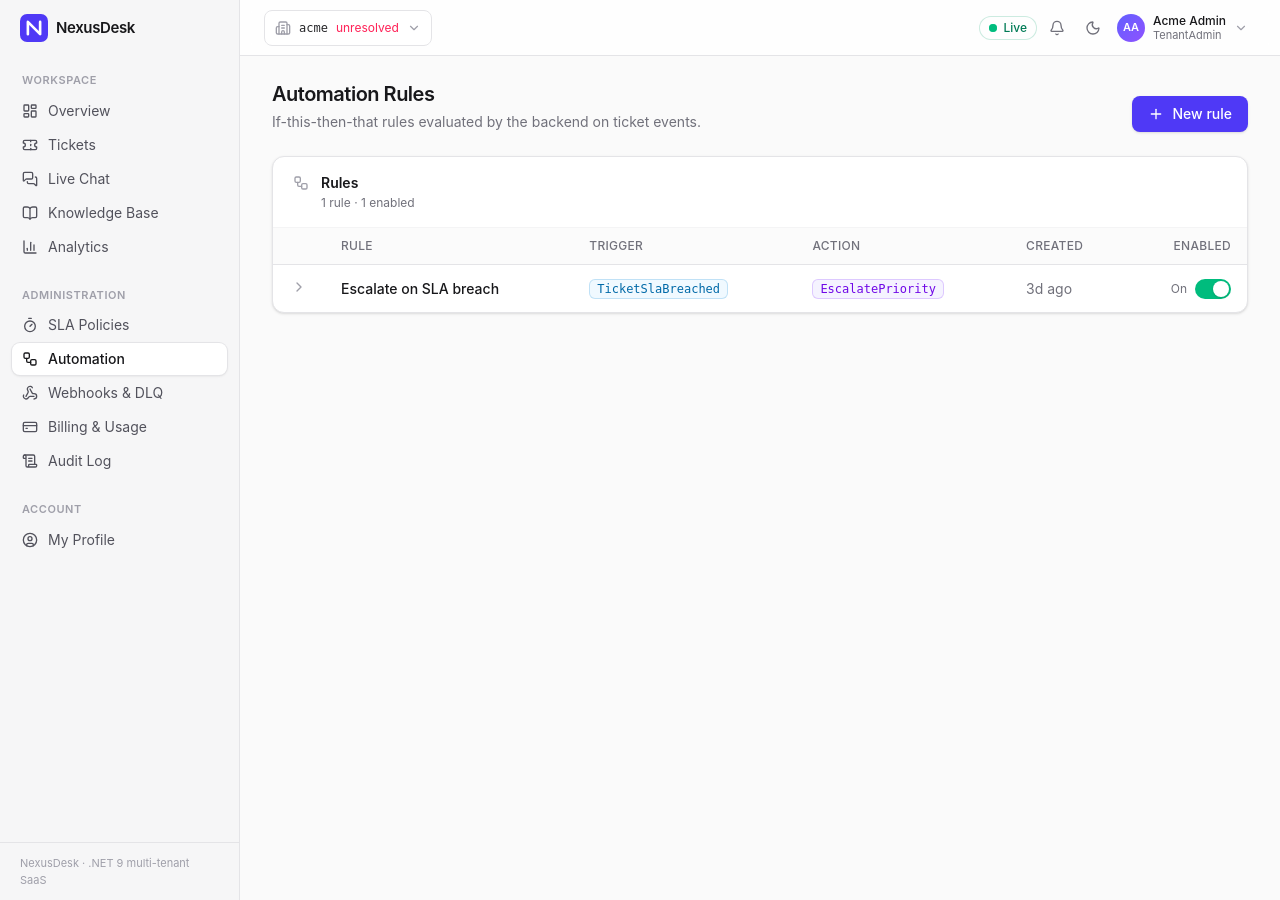
Test: Automation rules › toggles a rule with PATCH {isEnabled} and reflects it instantly
The width and height of the screenshot is (1280, 900).
Click the switch named "Enable Escalate on SLA breach" at (1213, 289), box [1195,279,1231,299]
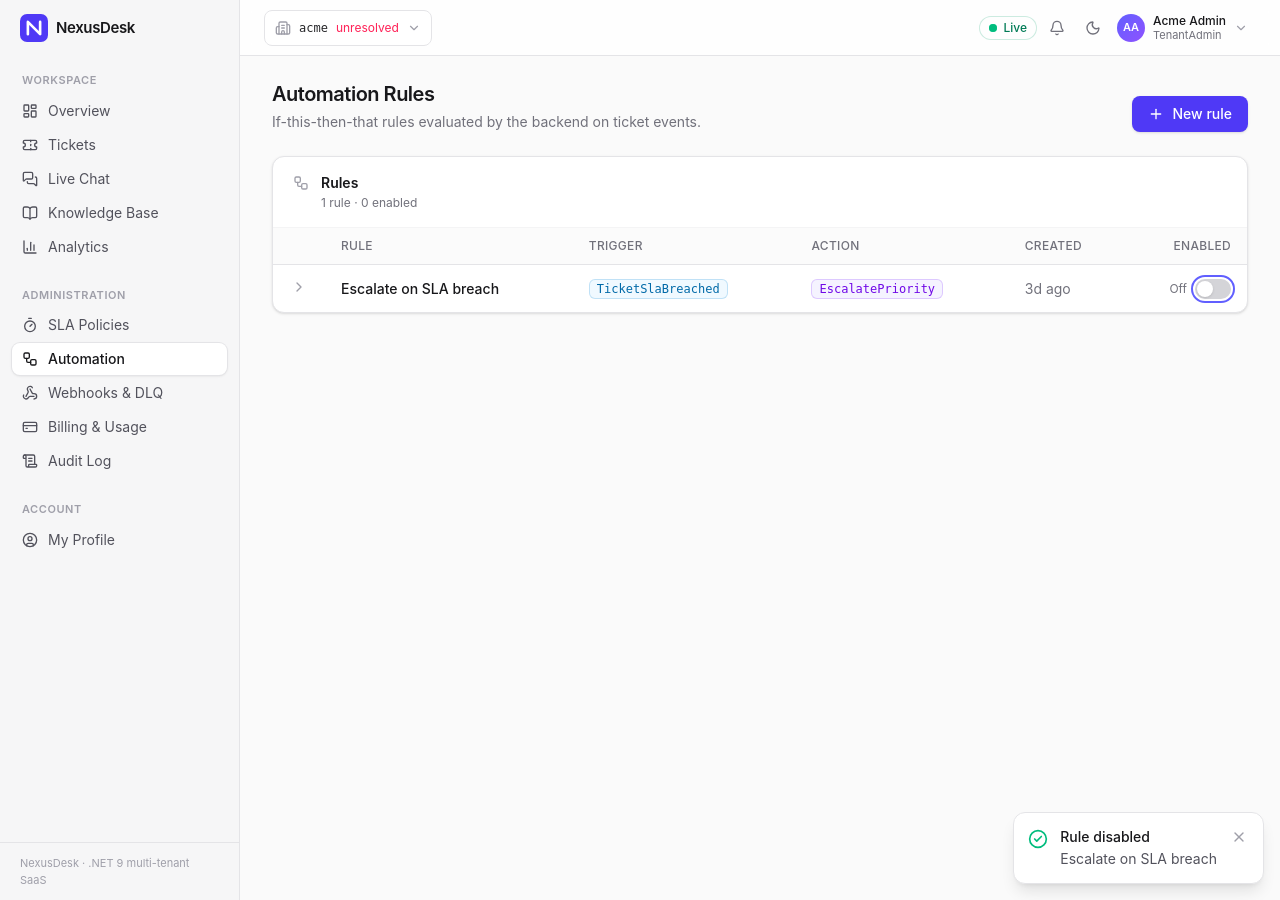
Now the text "Rule disabled" is shown, box [1060,828,1150,845]
